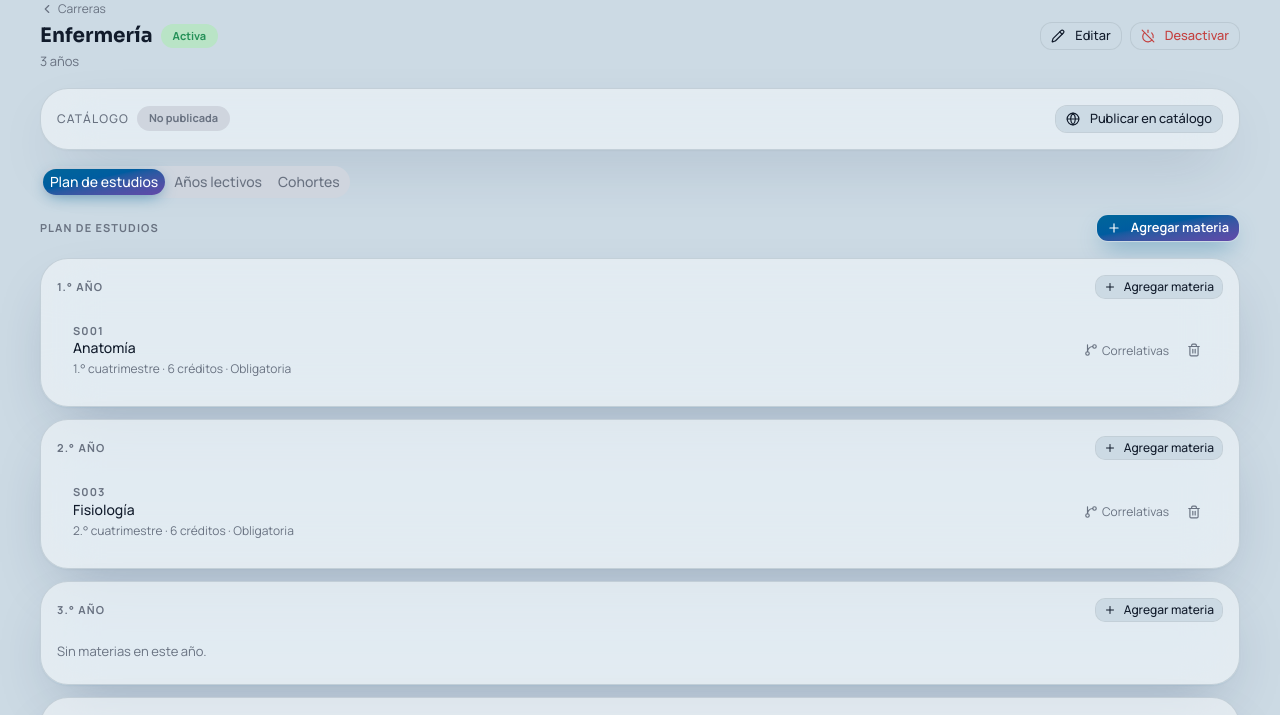
Test: CarreraDetalle — plan de estudios › preloads the year of the block where "Agregar materia" was clicked, even after using another block
Expected: the text "Anatomía" is shown, [73,338,136,357]
Click the button "Agregar materia" in the row of "1.° año".
click(1159, 286)  # box [1095,274,1223,298]
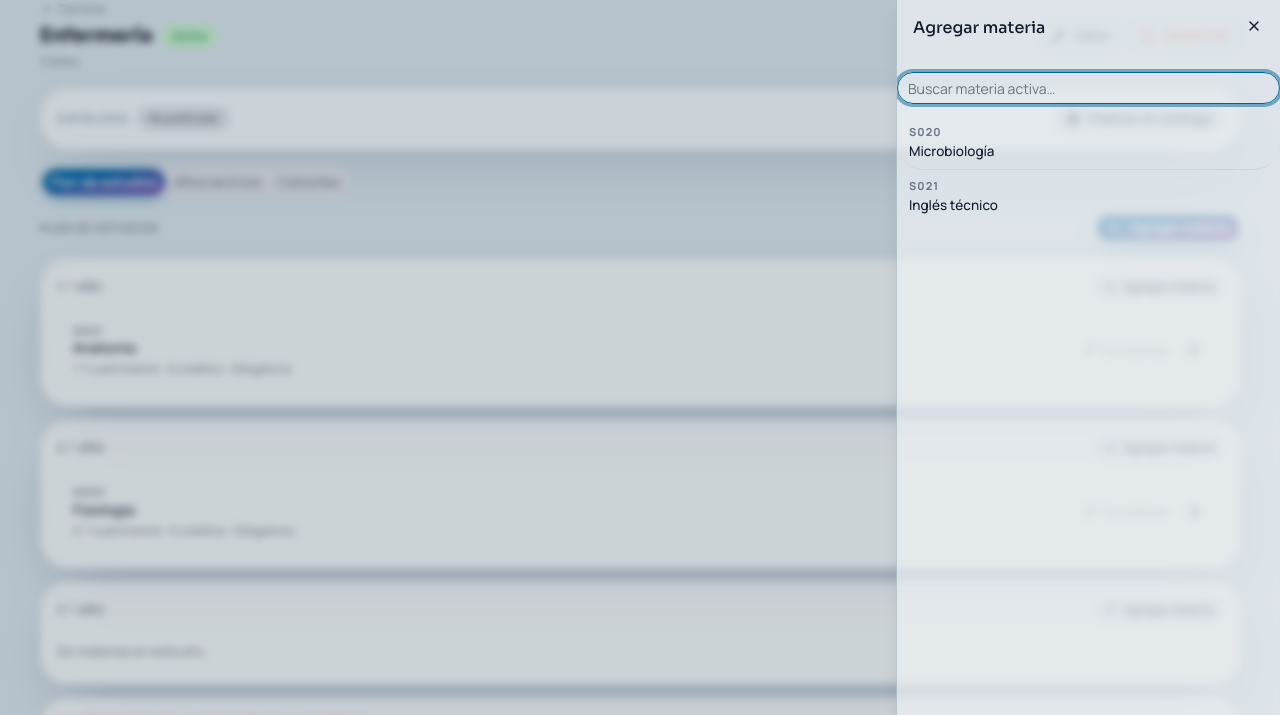
Click the button "S020 Microbiología".
click(925, 132)  # box [897,116,1279,170]
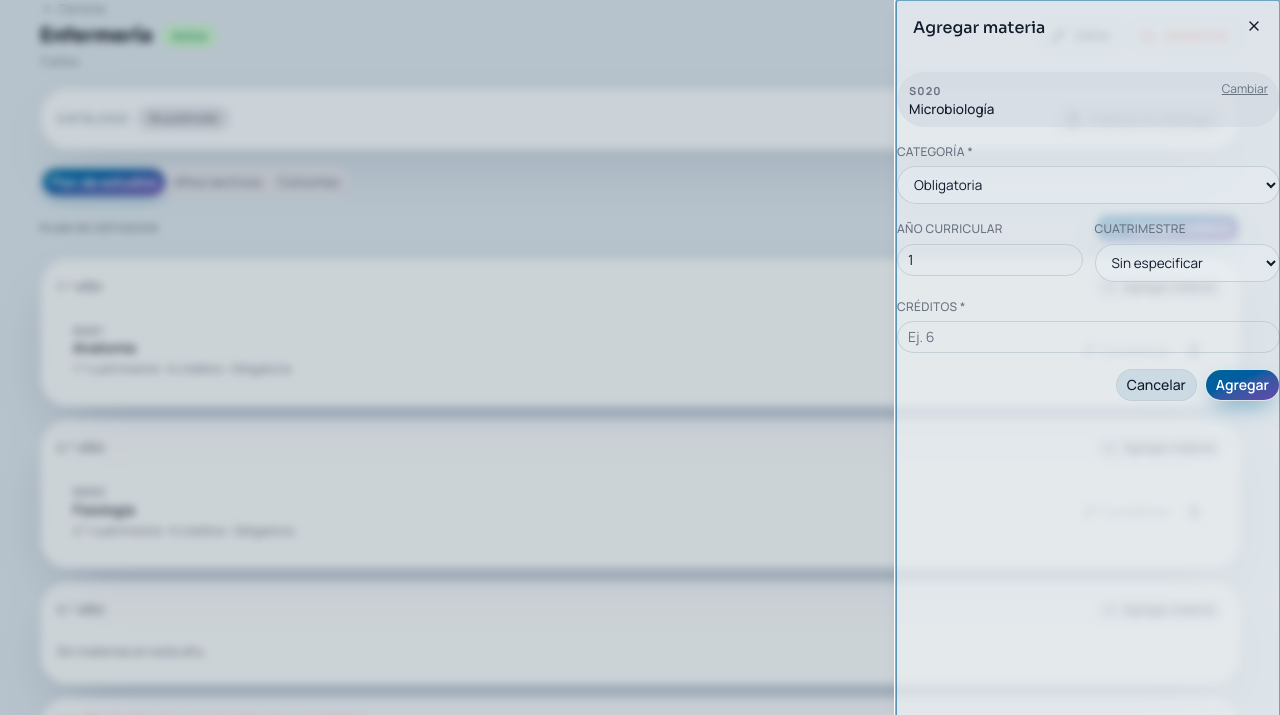
Expected: the number field labelled "Año curricular" holds "1", [897,244,1082,276]
Click the button "Cancelar".
click(1156, 385)  # box [1116,369,1197,401]
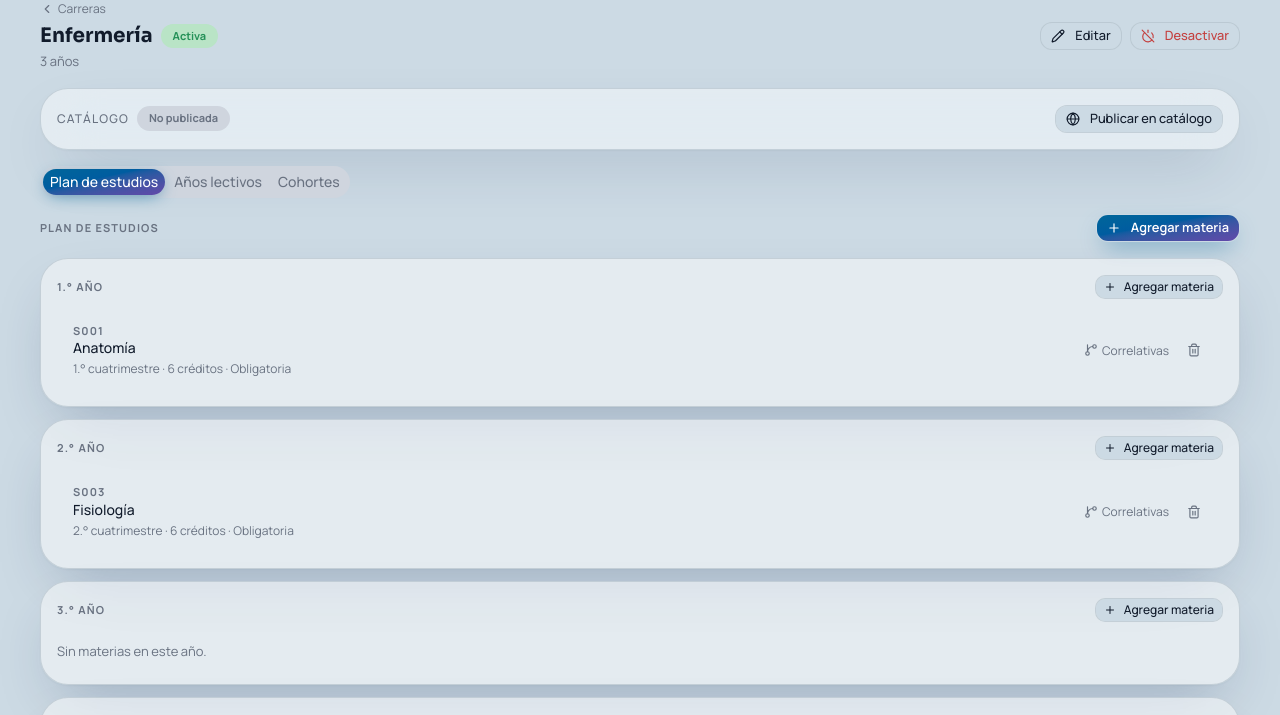
Click the button "Agregar materia" in the row of "2.° año".
click(1159, 448)  # box [1095,436,1223,460]
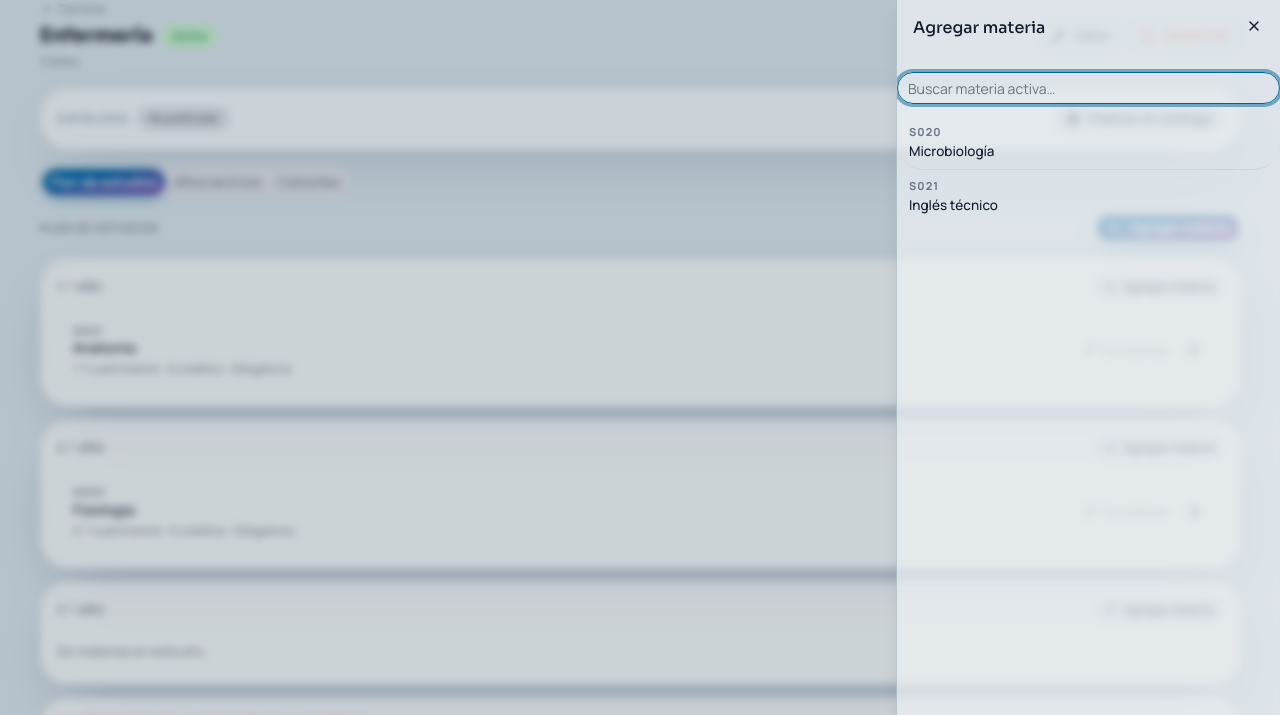
Click the button "S020 Microbiología".
click(925, 132)  # box [897,116,1279,170]
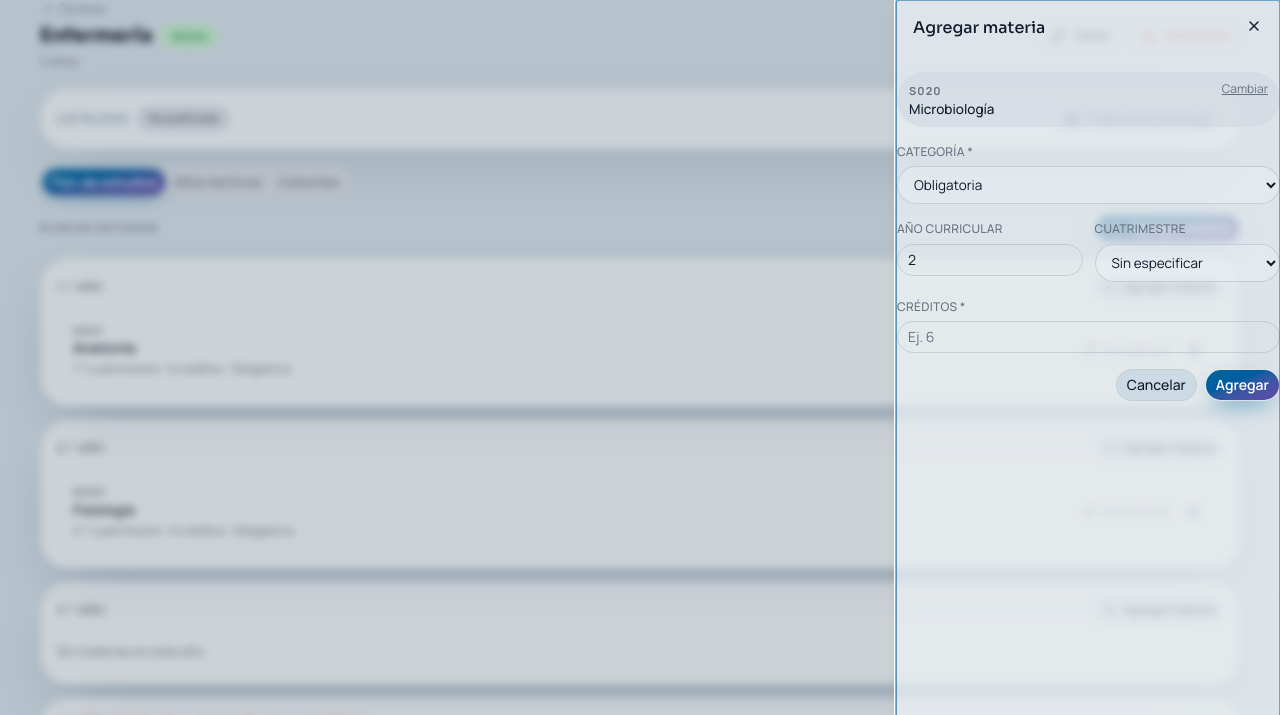
Now the number field labelled "Año curricular" holds "2", box [897,244,1082,276]
